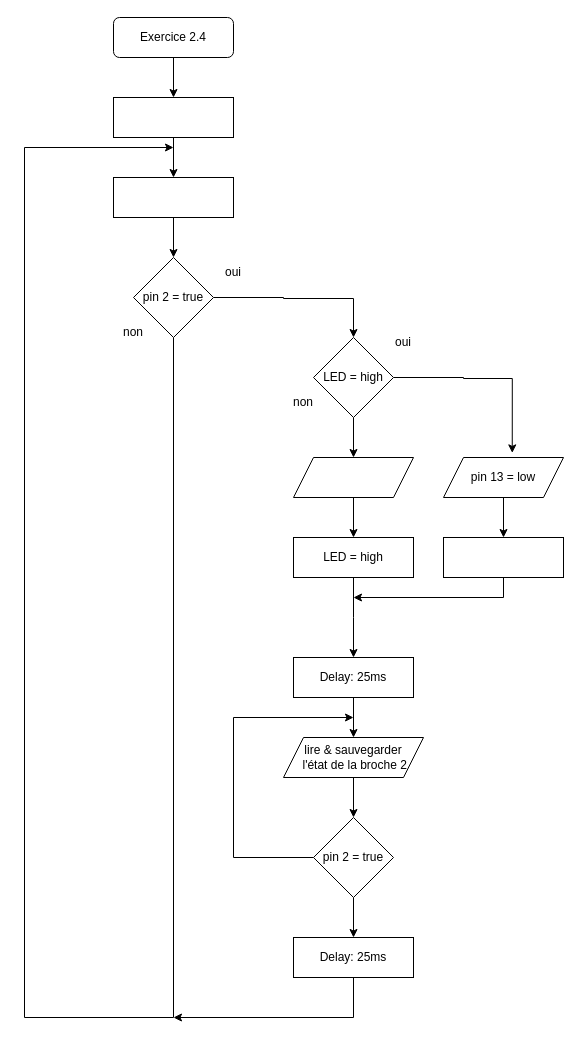
Image size: 581x1043. Some labels were removed from this diagram. The box of each missing label's shape, as (x1, y1, x2, y2) in pixels:
configurer pin 13 comme sortie, pin 2 et 3 comme entrée: (112, 96, 234, 138)
LED = low: (442, 536, 564, 578)
lire & sauvegarder l'état de la broche 2 et 3: (112, 176, 234, 218)
pin 13 = high: (292, 456, 414, 498)
